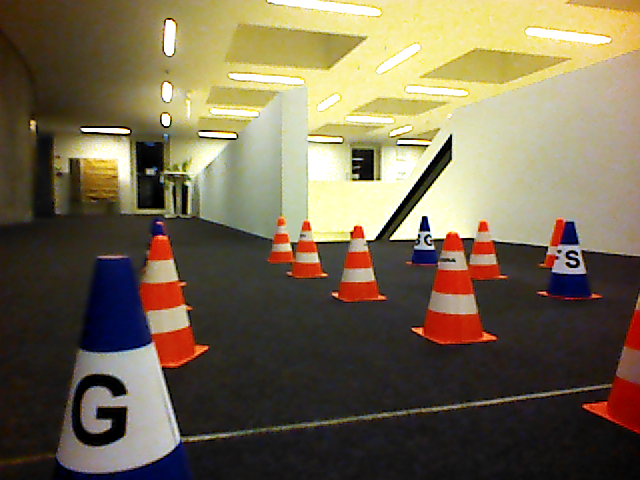bluecone: (548, 220, 601, 301), (406, 215, 439, 267)
orangeconesmall: (151, 233, 210, 365), (334, 225, 388, 302), (267, 216, 296, 265)
